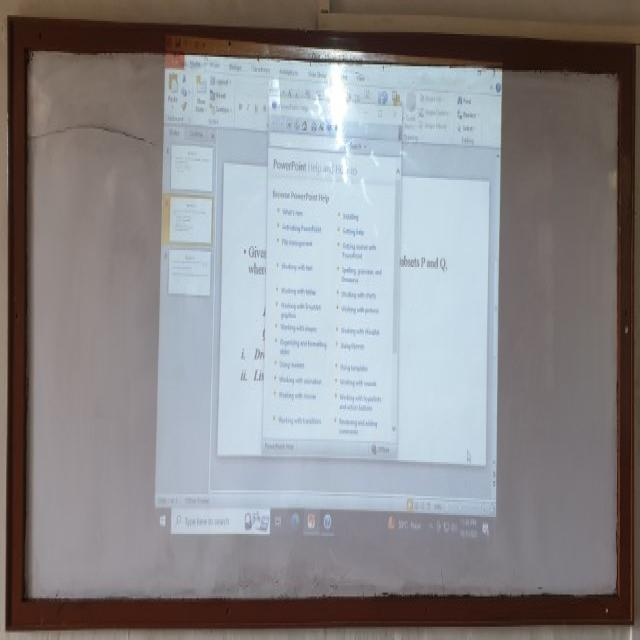Slide: (153, 30, 505, 549)
White-board: (16, 33, 631, 624)
